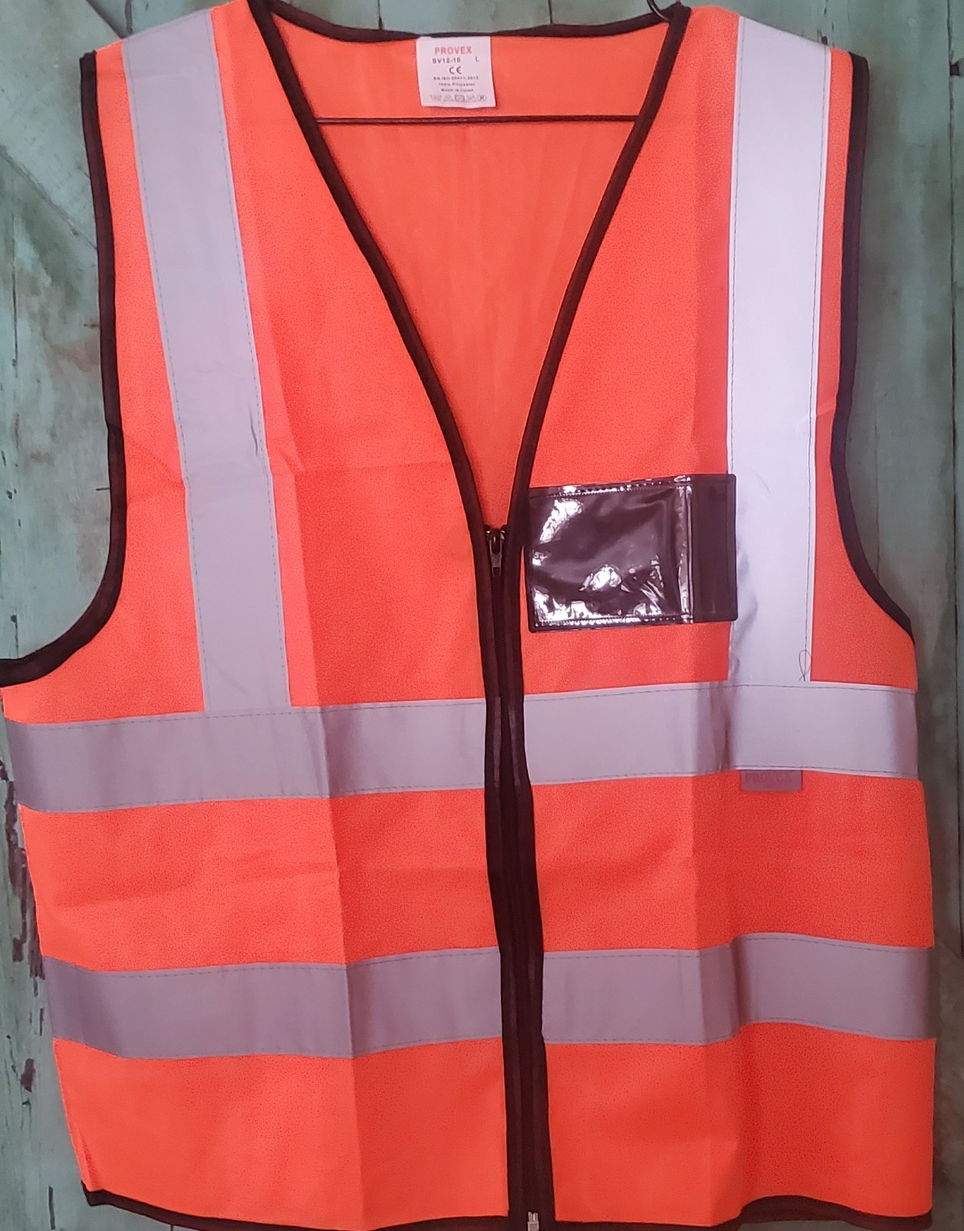vest: (21, 23, 926, 1223)
